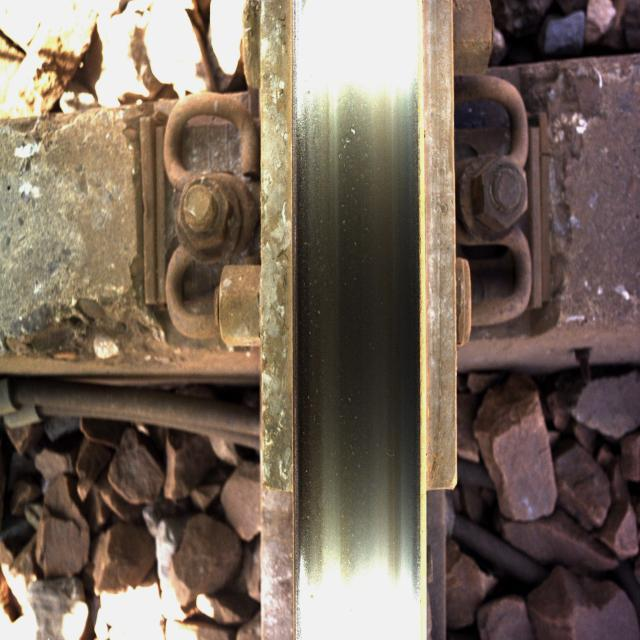normal: (300, 33, 414, 608)
